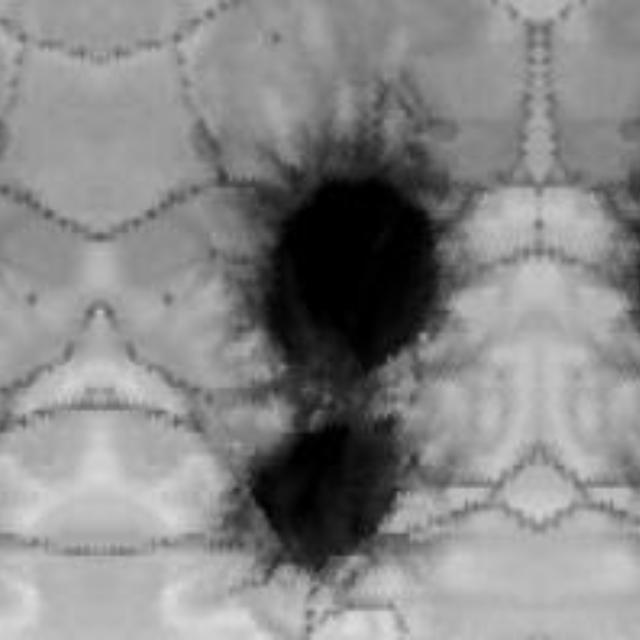good_void: (225, 81, 466, 408), (227, 410, 420, 592), (268, 31, 284, 45), (163, 293, 176, 305), (25, 293, 38, 305)
